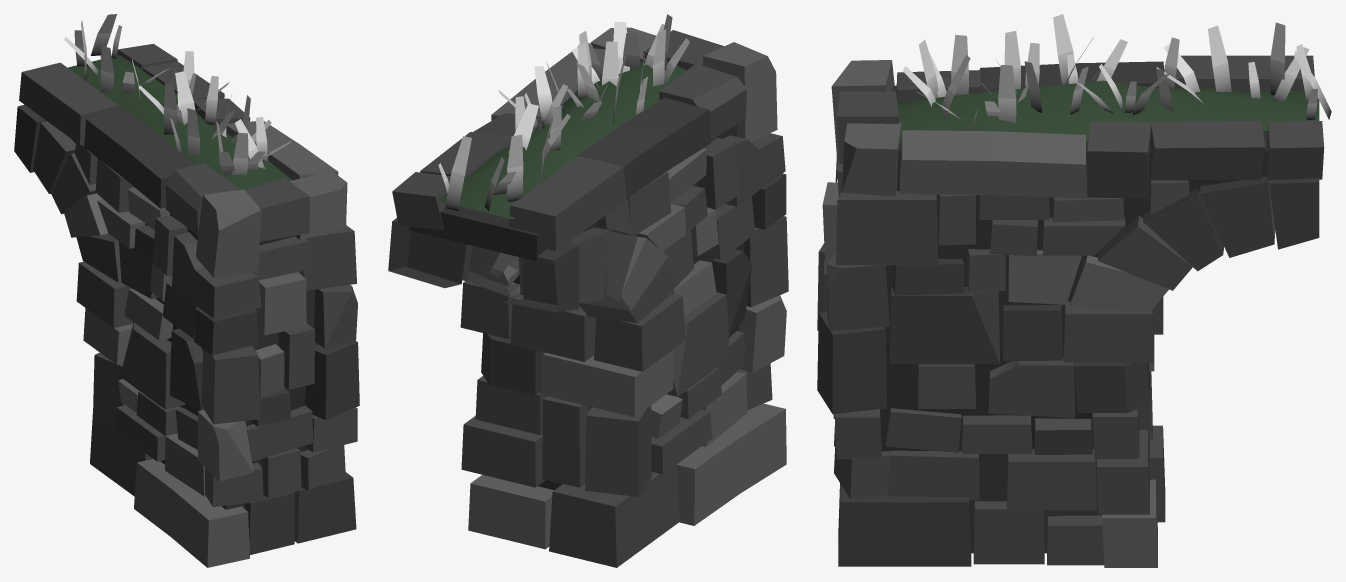
The model's file is Arch_Wall.fbx.
3 renders of one model, left to right at view 1: azimuth 30°, elevation 25°; view 2: azimuth 150°, elevation 25°; view 3: azimuth 270°, elevation 25°, orthographic. The views are drawn at different scales.
Parts seen in each view (by area): view 1: Arch_wall, wall_grass; view 2: Arch_wall, wall_grass; view 3: Arch_wall, wall_grass.
Boxes of the visible parts, x1,y1,x2,y2 form: Arch_wall: (14,44,359,567); wall_grass: (64,14,292,175); Arch_wall: (388,27,788,567); wall_grass: (438,14,689,210); Arch_wall: (817,55,1324,567); wall_grass: (902,14,1331,130).
Size of the model in its own units: 2.77 by 6.8 by 6.35.
